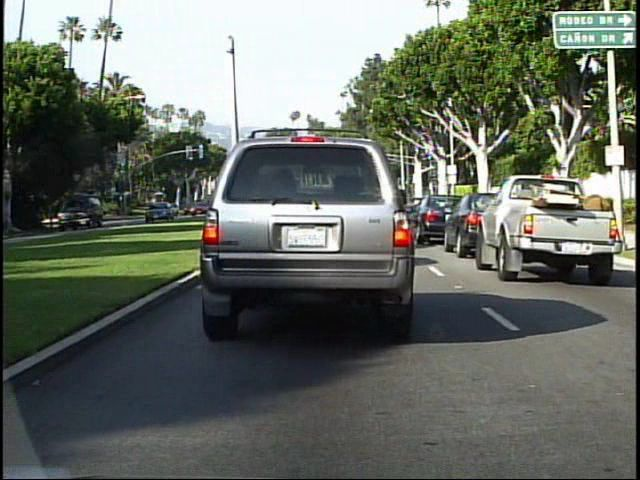person: (79, 205, 93, 227)
